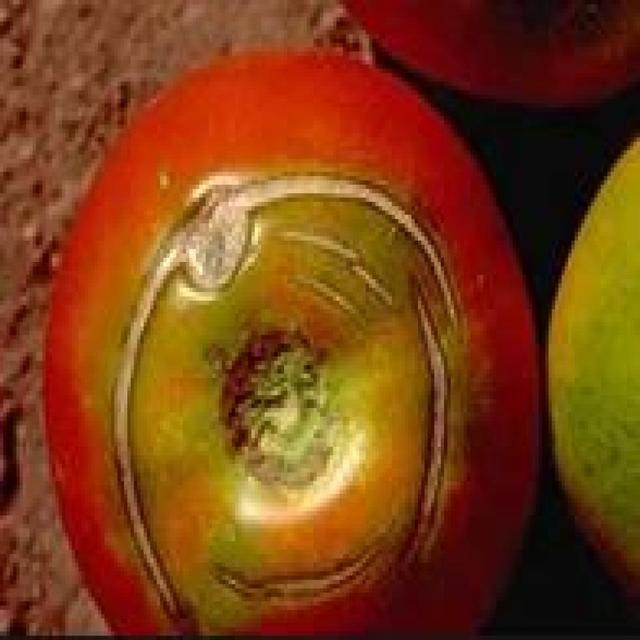Cracking Fruit: (70, 97, 311, 409)
